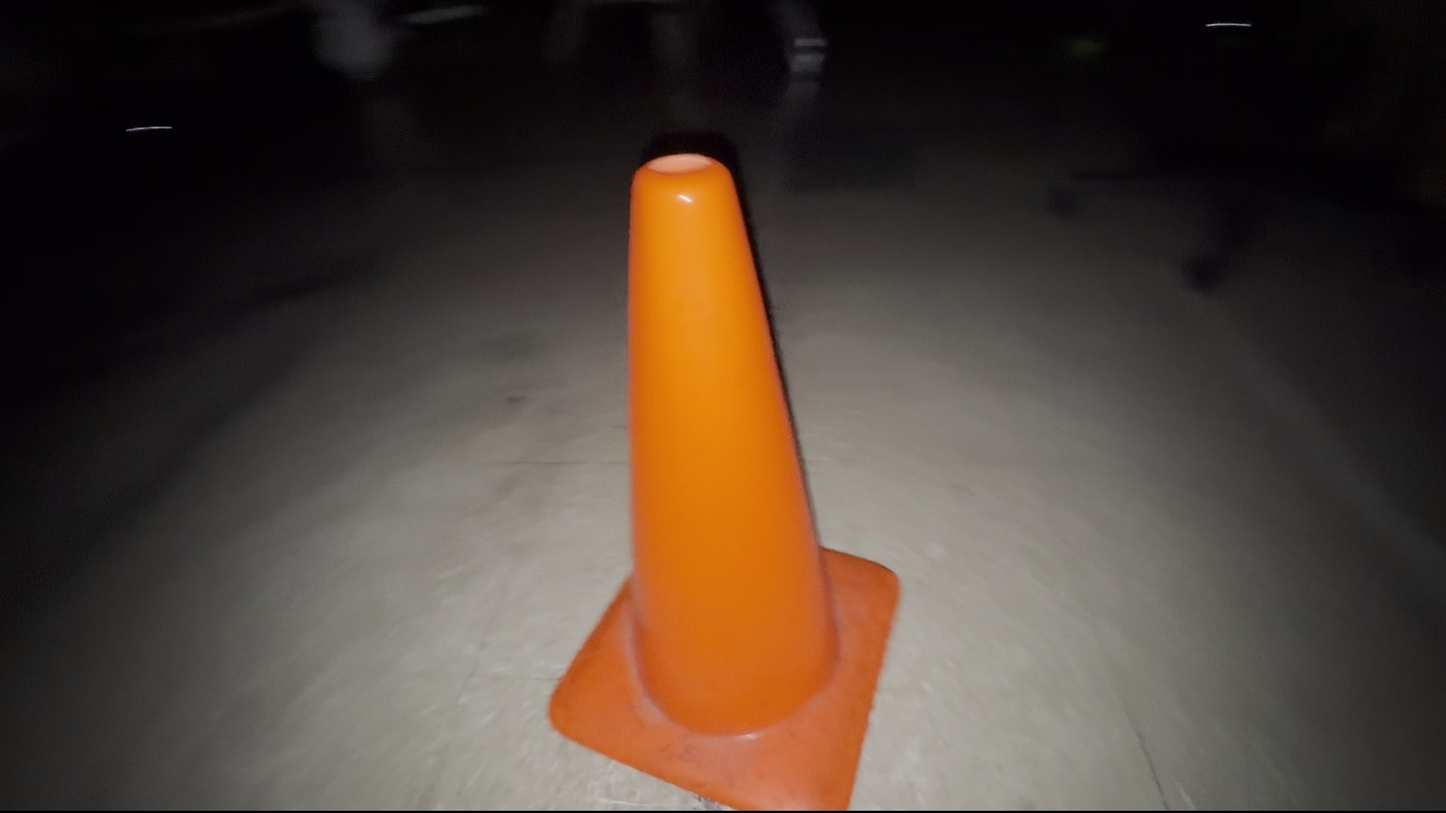traffic_cone: (547, 151, 902, 811)
